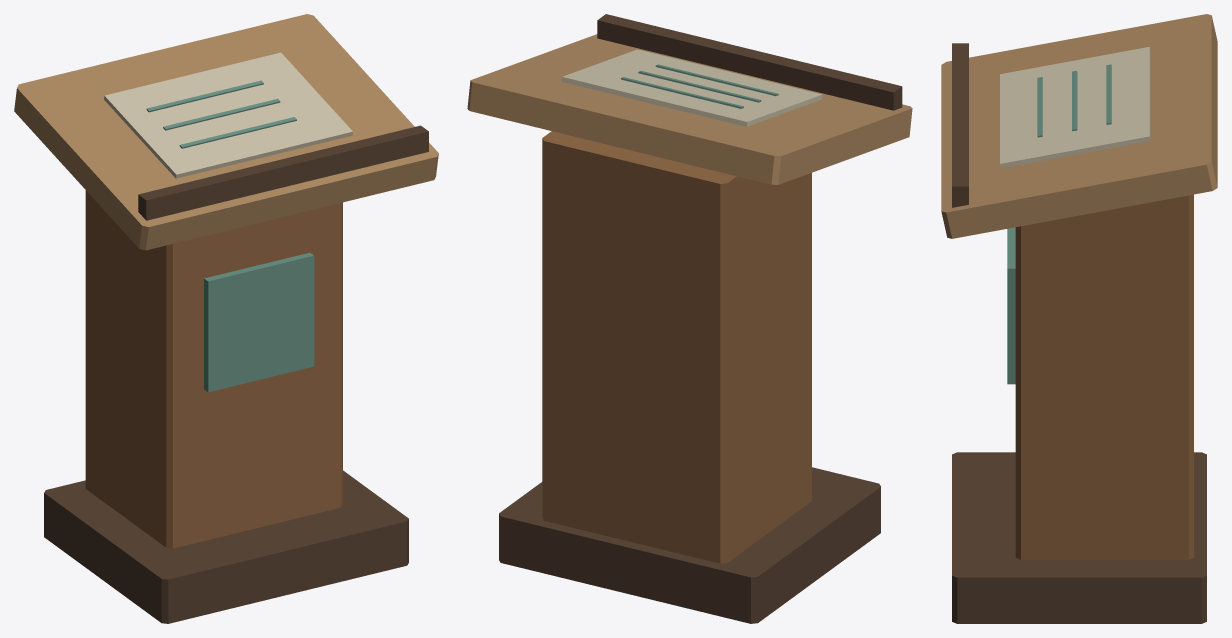
File: lectern_council.glb
3 renders of one model, left to right at view 1: azimuth 30°, elevation 25°; view 2: azimuth 150°, elevation 25°; view 3: azimuth 270°, elevation 25°, orthographic. The views are drawn at different scales.
Parts seen in each view (by area): view 1: geometry; view 2: geometry; view 3: geometry.
Boxes of the visible parts, bbox=[...] form: geometry: bbox=[14, 14, 438, 623]; geometry: bbox=[467, 14, 912, 623]; geometry: bbox=[941, 14, 1217, 623].
Size of the model in its own units: 0.84 by 1.23 by 0.651.
